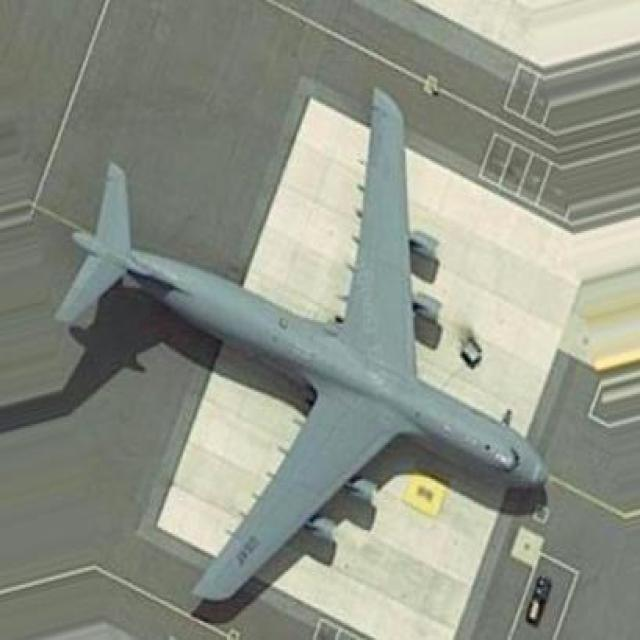C-5_TopDown: (50, 77, 551, 614)
